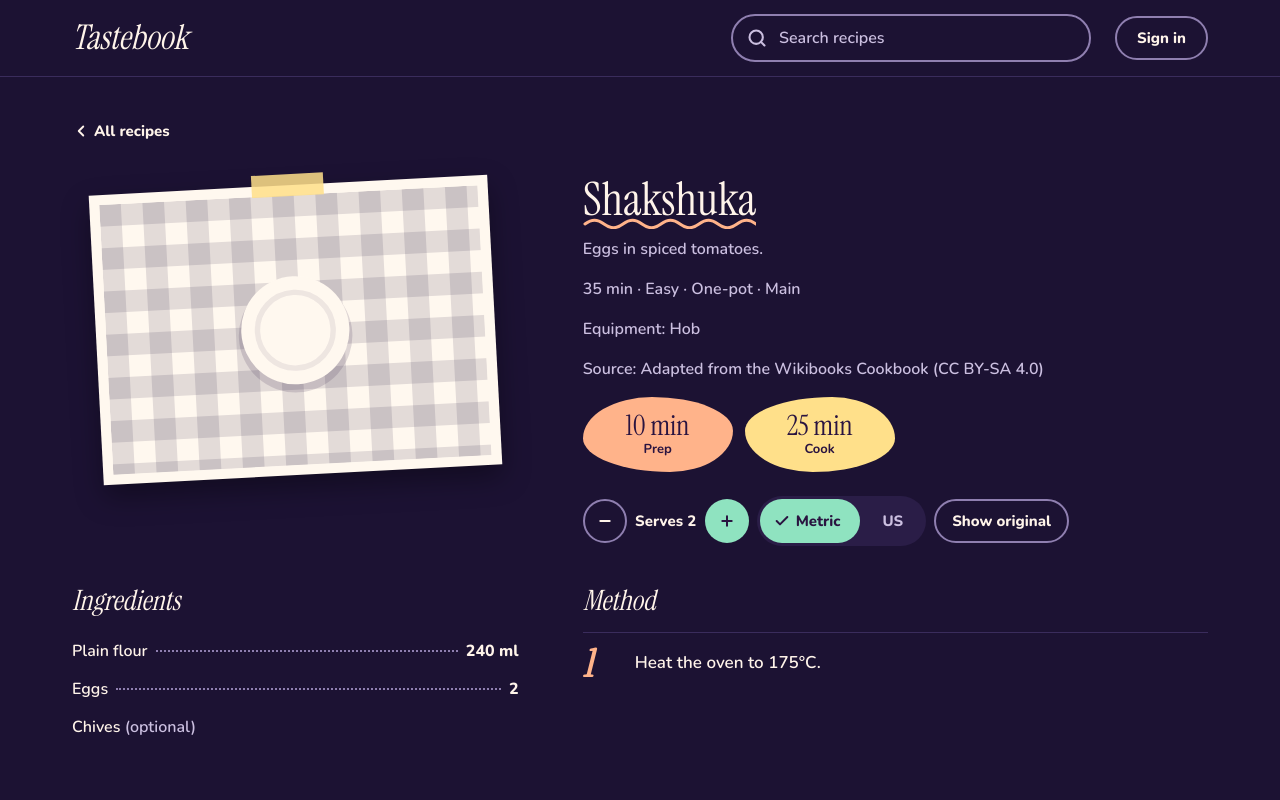
RecipePage › shows the amounts and method as the source wrote them, offered only while they differ from what is shown
What coordinates should you click on to do the following:
click the button "Show original"
I would click on:
 (1002, 521)
Its box is [934,499,1069,543].
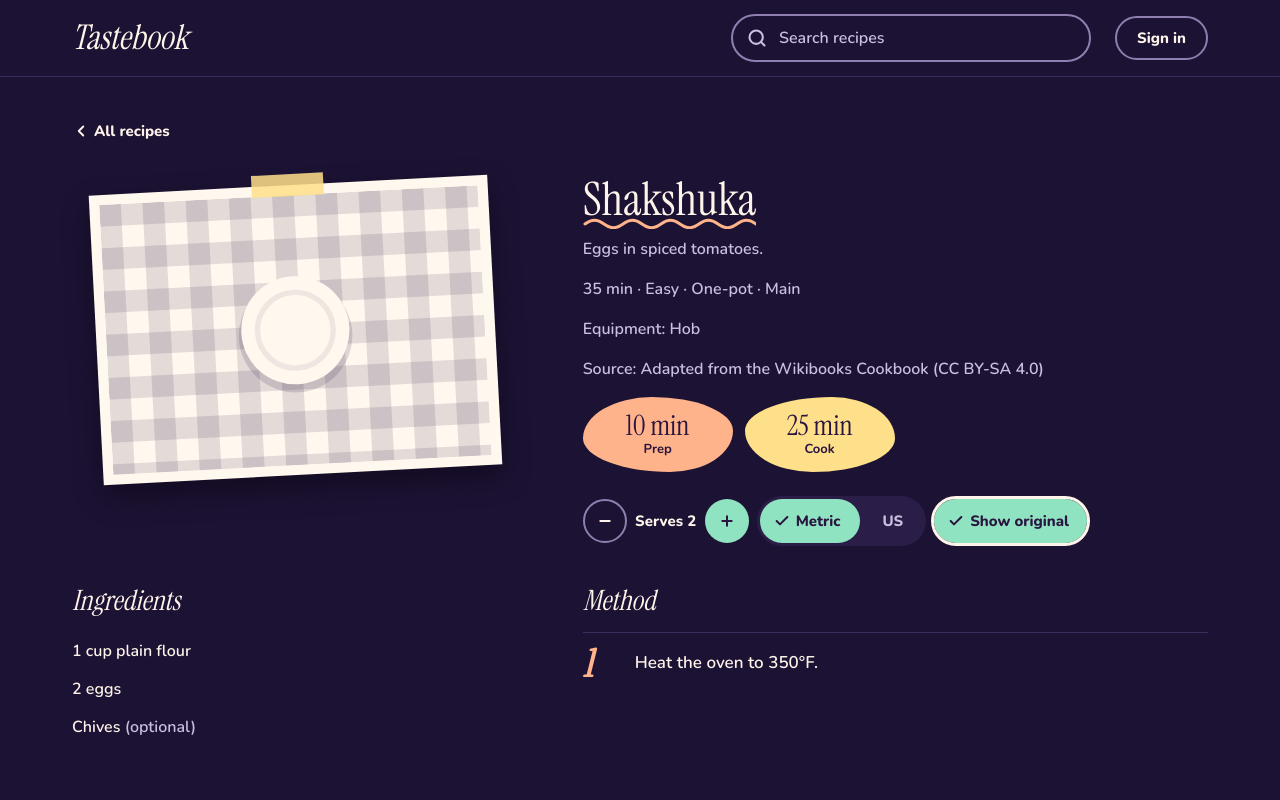
Now the list item "1 cup plain flour" is shown, box [72,640,191,662]
US customary reads the same as the original, so there's nothing different to show.
What coordinates should you click on to do the following:
click the radio button labelled "US"
I would click on:
 (893, 521)
Its box is [882,511,903,531].
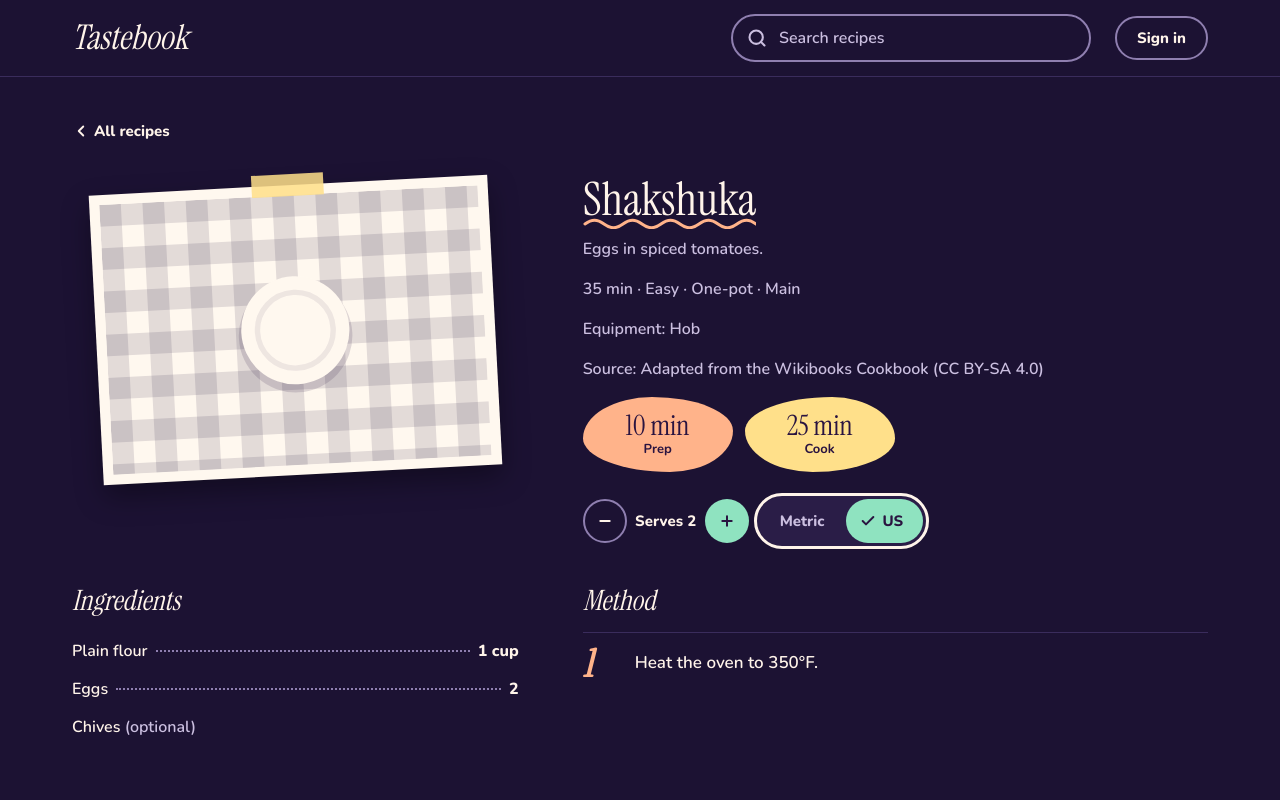
Now the button "Show original" is gone
